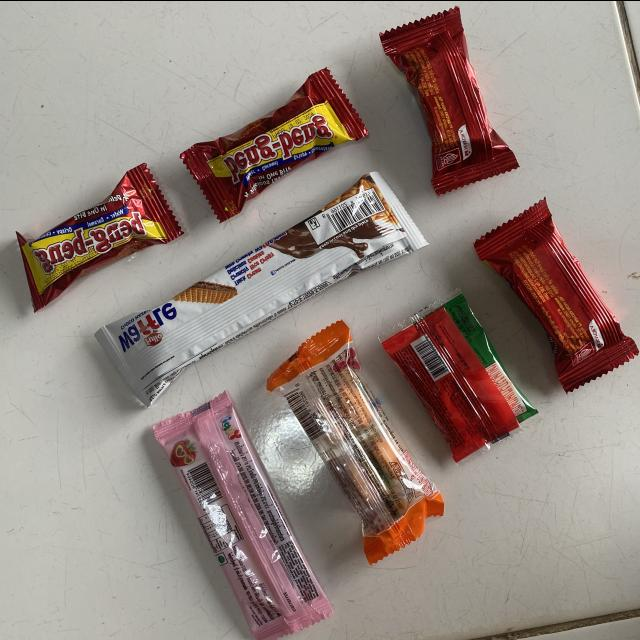plastik: (95, 171, 428, 405), (153, 392, 333, 640), (267, 320, 444, 562), (475, 199, 638, 391), (181, 68, 367, 220), (382, 290, 538, 460), (381, 7, 518, 194), (18, 163, 182, 310)
